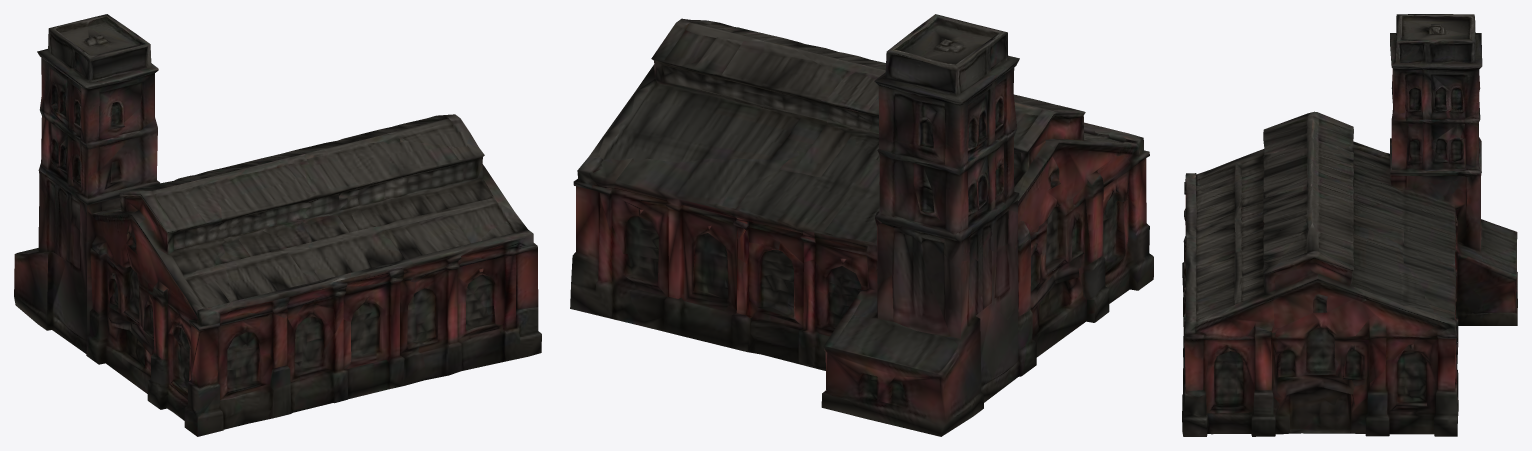
The model's file is worksHall.glb.
The picture shows the model from 3 angles, left to right: view 1: azimuth 30°, elevation 25°; view 2: azimuth 150°, elevation 25°; view 3: azimuth 270°, elevation 25°; orthographic projection. The views are drawn at different scales.
Parts seen in each view (by area): view 1: tripo_node_708d915e-d043-484e-bdcb-ddbe2cad713f; view 2: tripo_node_708d915e-d043-484e-bdcb-ddbe2cad713f; view 3: tripo_node_708d915e-d043-484e-bdcb-ddbe2cad713f.
Part boxes in pixels (left/top/right/bottom): tripo_node_708d915e-d043-484e-bdcb-ddbe2cad713f: left=14, top=14, right=541, bottom=436; tripo_node_708d915e-d043-484e-bdcb-ddbe2cad713f: left=570, top=14, right=1153, bottom=436; tripo_node_708d915e-d043-484e-bdcb-ddbe2cad713f: left=1182, top=14, right=1517, bottom=436.
Size of the model in its own units: 0.999 by 0.7988 by 0.8972.
Materials: 1 (1 with a texture image).
